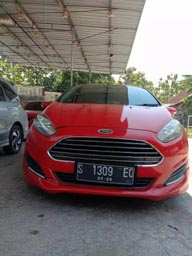plat: (74, 163, 134, 176)
